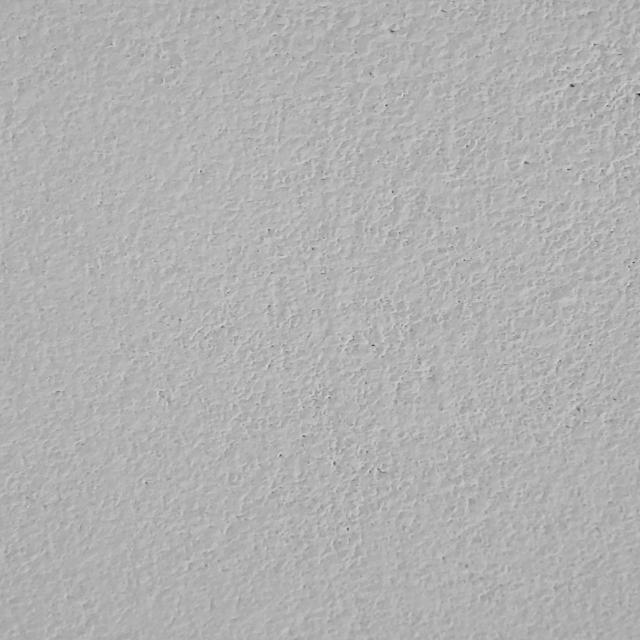rough and patchy surface: (5, 6, 629, 631)
